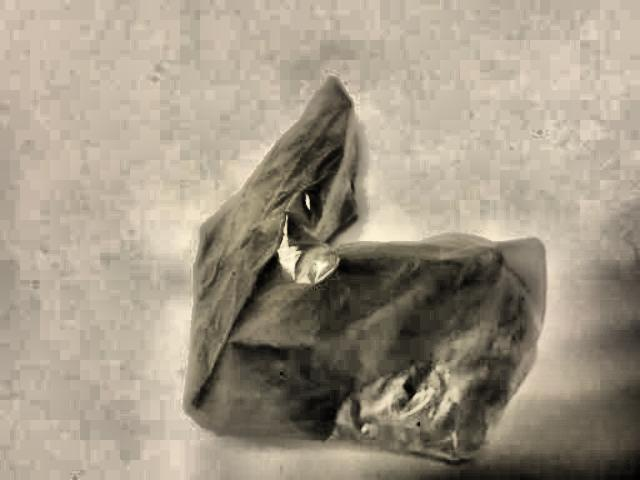Plastic: (171, 67, 553, 480)
